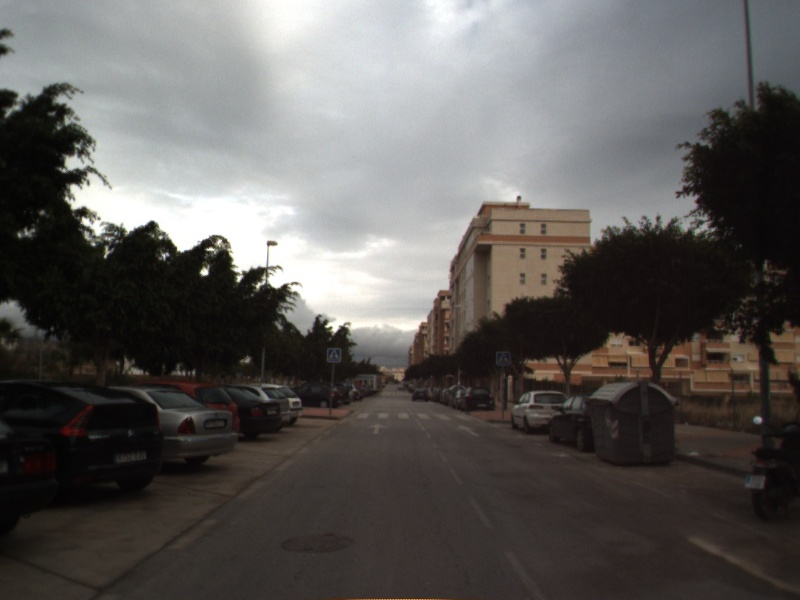STRAIGHT: (455, 423, 481, 438), (366, 421, 389, 436)
